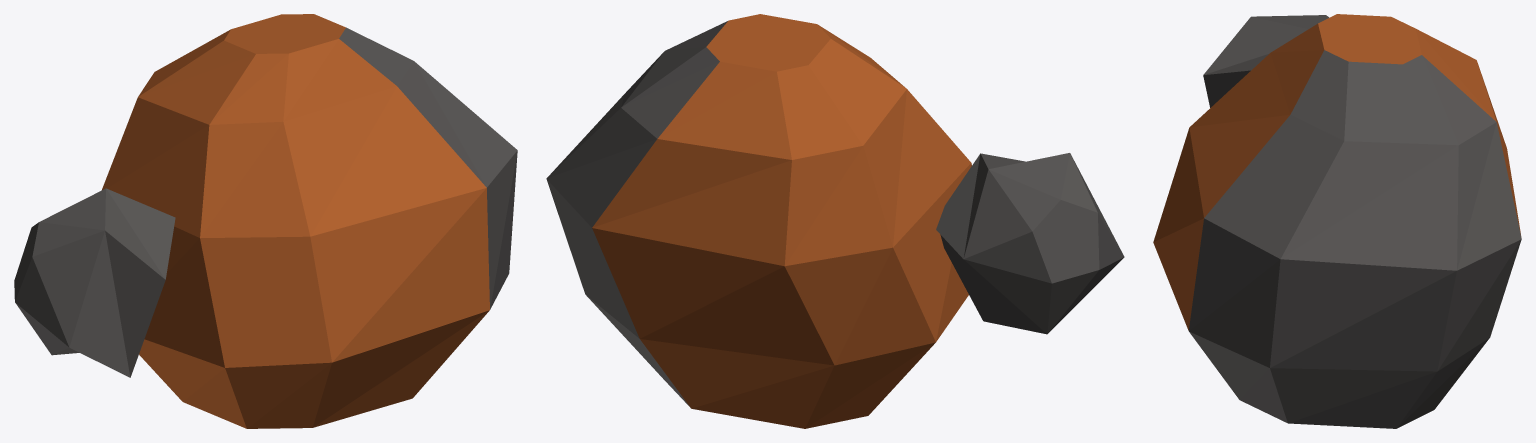
The model's file is raw_copper.gltf.
3 renders of one model, left to right at view 1: azimuth 30°, elevation 25°; view 2: azimuth 150°, elevation 25°; view 3: azimuth 270°, elevation 25°, orthographic.
Visible parts, largest first — view 1: raw_copper; view 2: raw_copper; view 3: raw_copper.
Part boxes in pixels (<box>): raw_copper: <box>14,14,517,428</box>; raw_copper: <box>546,14,1124,428</box>; raw_copper: <box>1153,14,1521,428</box>.
Size of the model in its own units: 0.259 by 0.1806 by 0.1703.
